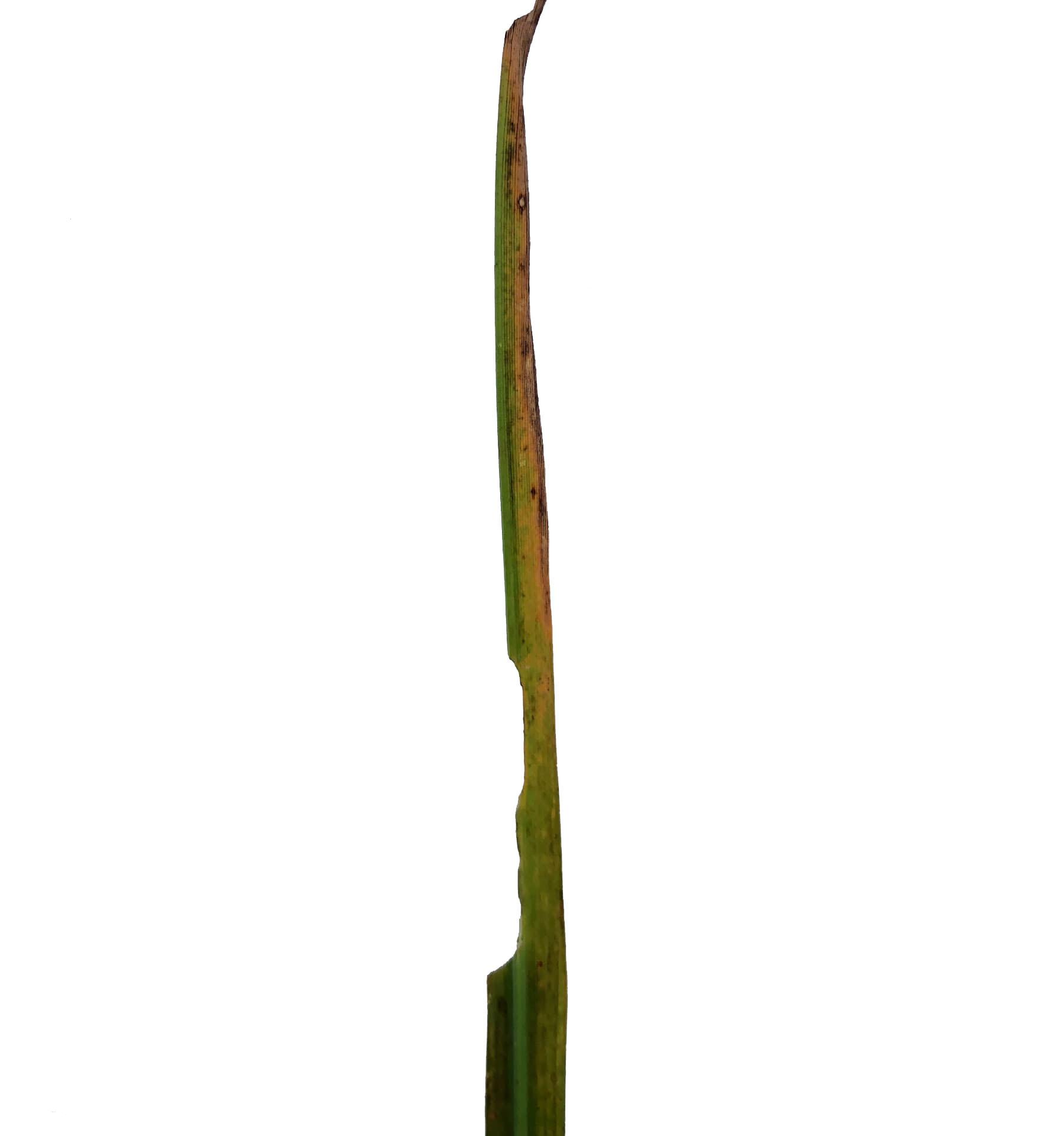Rice blast: (508, 3, 549, 526)
Tungro: (520, 540, 564, 1136)
